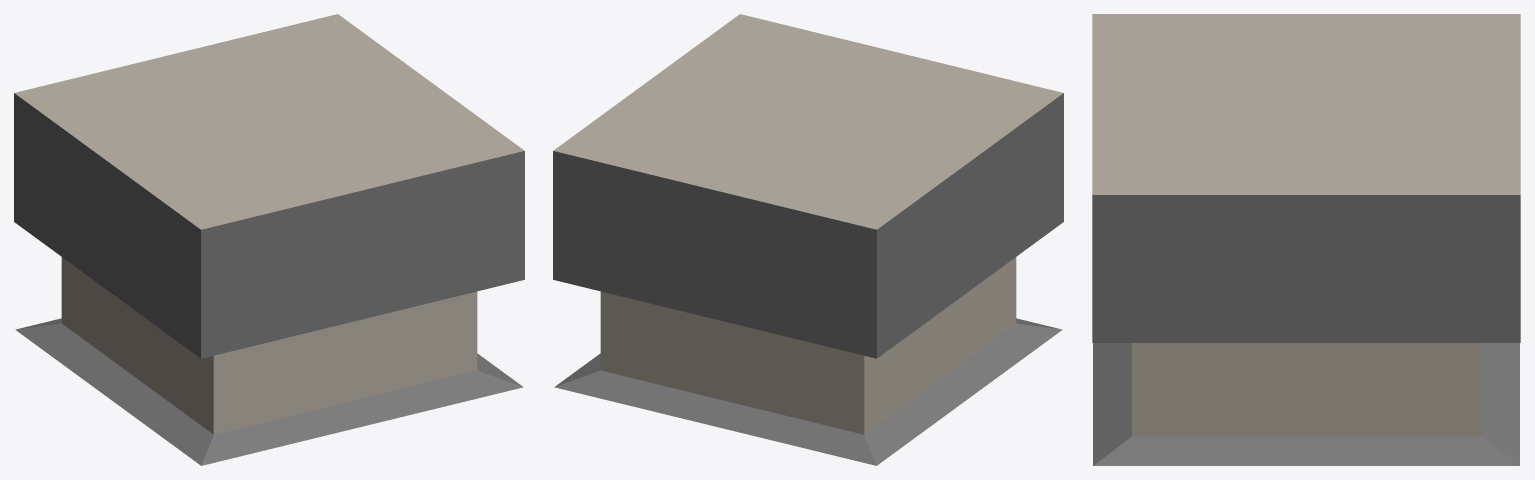
Rendered from SM_Conditioner_03.fbx.
The picture shows the model from 3 angles, left to right: view 1: azimuth 30°, elevation 25°; view 2: azimuth 150°, elevation 25°; view 3: azimuth 270°, elevation 25°; orthographic projection. The views are drawn at different scales.
Parts seen in each view (by area): view 1: SM_Conditioner_03; view 2: SM_Conditioner_03; view 3: SM_Conditioner_03.
Boxes of the visible parts, x1=… form: SM_Conditioner_03: x1=14, y1=14, x2=524, y2=465; SM_Conditioner_03: x1=553, y1=14, x2=1063, y2=465; SM_Conditioner_03: x1=1092, y1=14, x2=1520, y2=465.
Bounding box in the file's own units: 60.23 × 42.05 × 60.23.
1 material, 1 textured.
